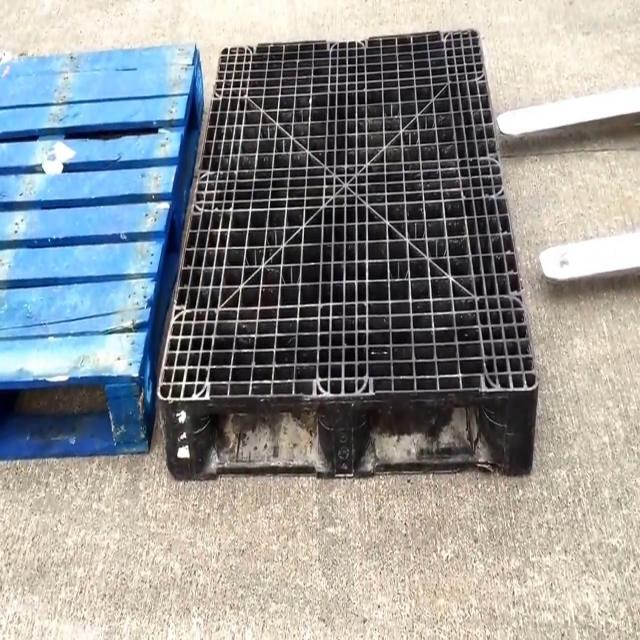Palette: (154, 26, 544, 493), (0, 47, 202, 497)
